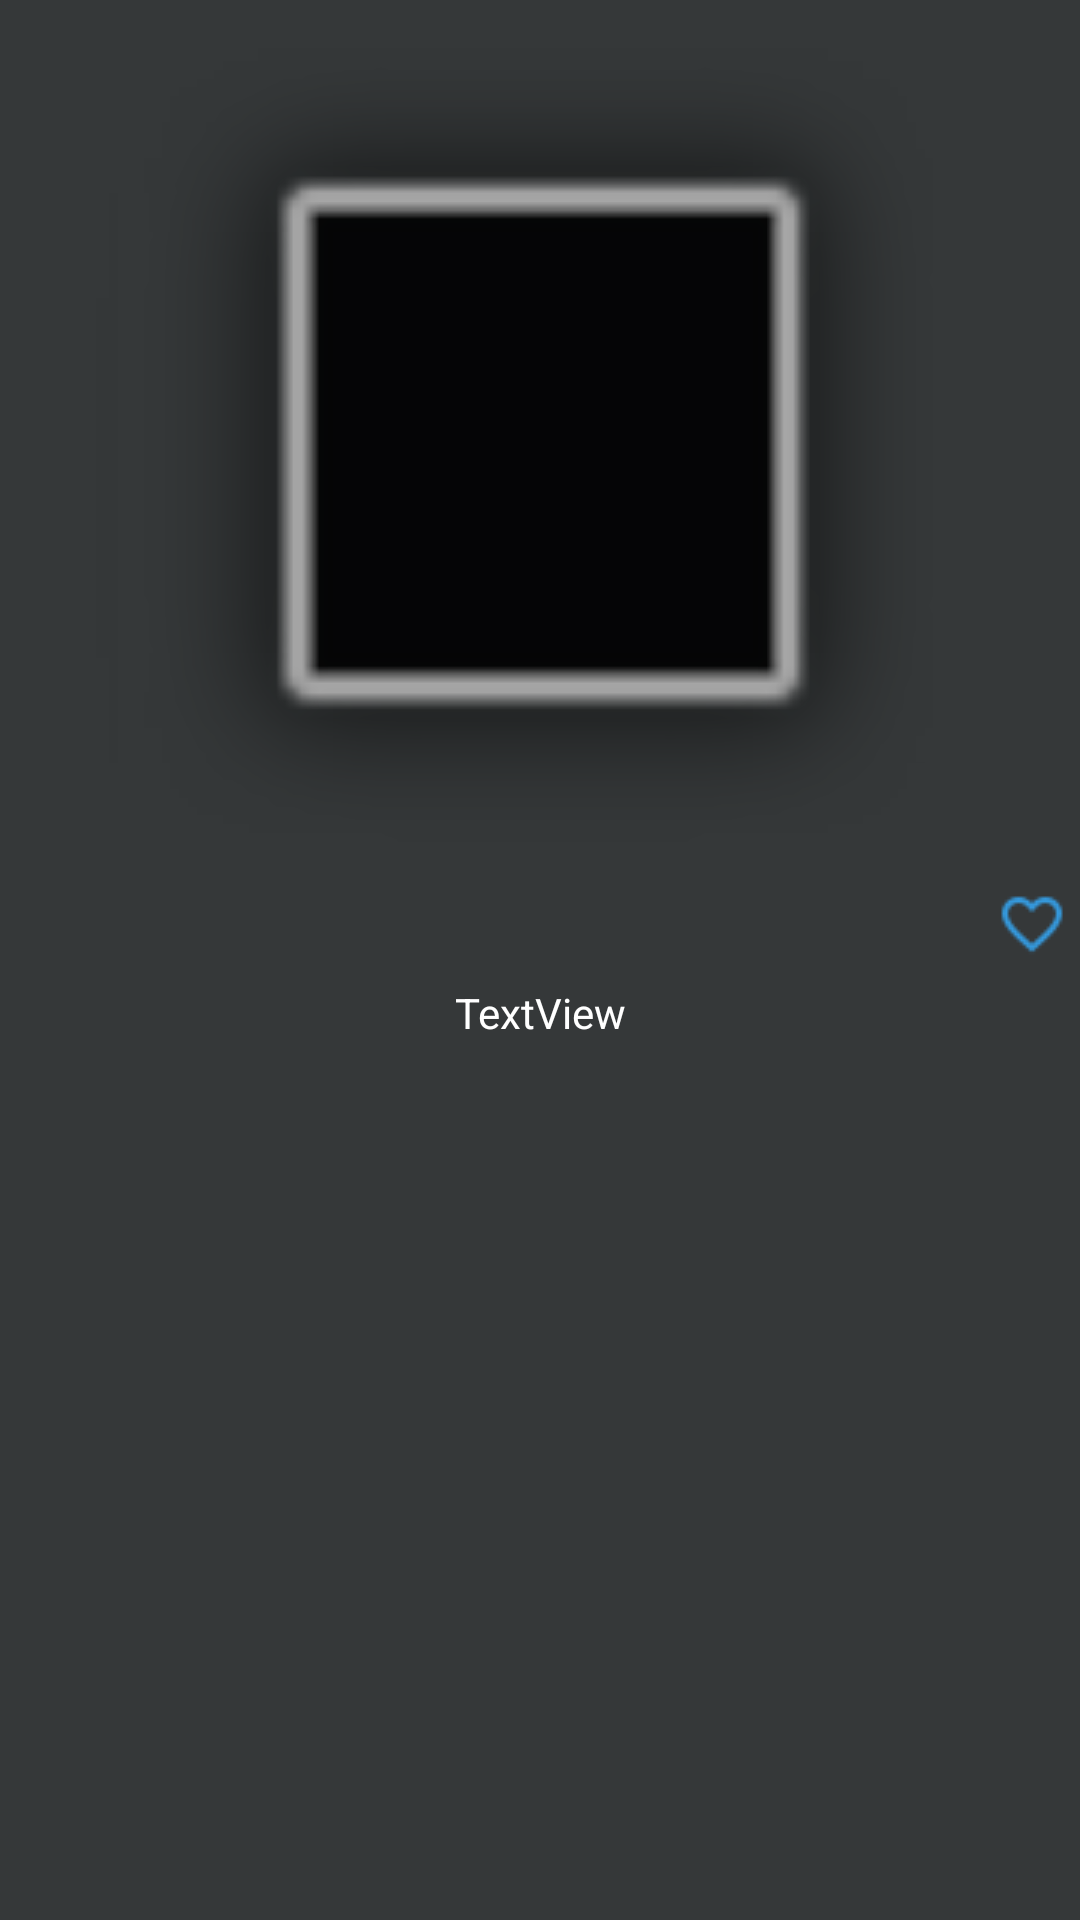

Named icons in this screenshot (1080px×1920px) and their centers, (x=x, y=y):
heart: (x=1032, y=924)
